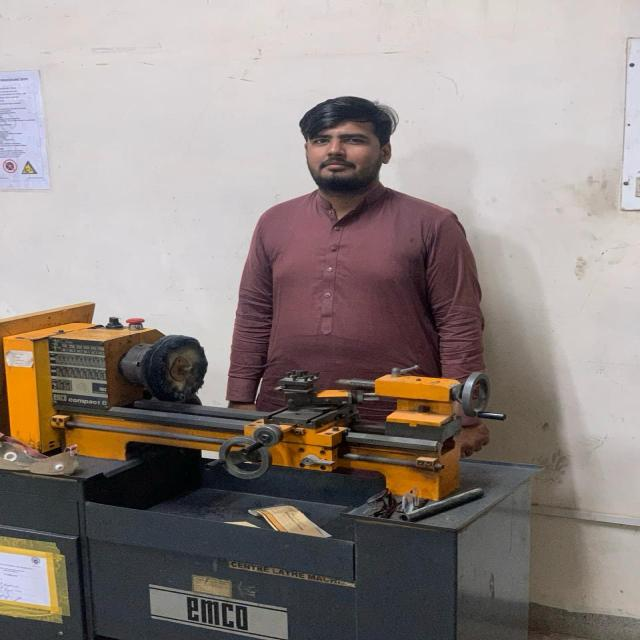dress: (217, 177, 496, 449)
